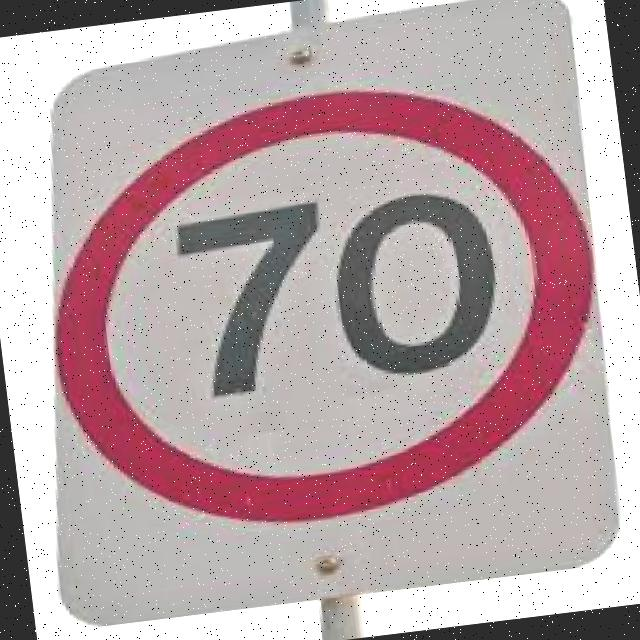Ograniczenie predkosci do 70: (35, 63, 610, 544)
